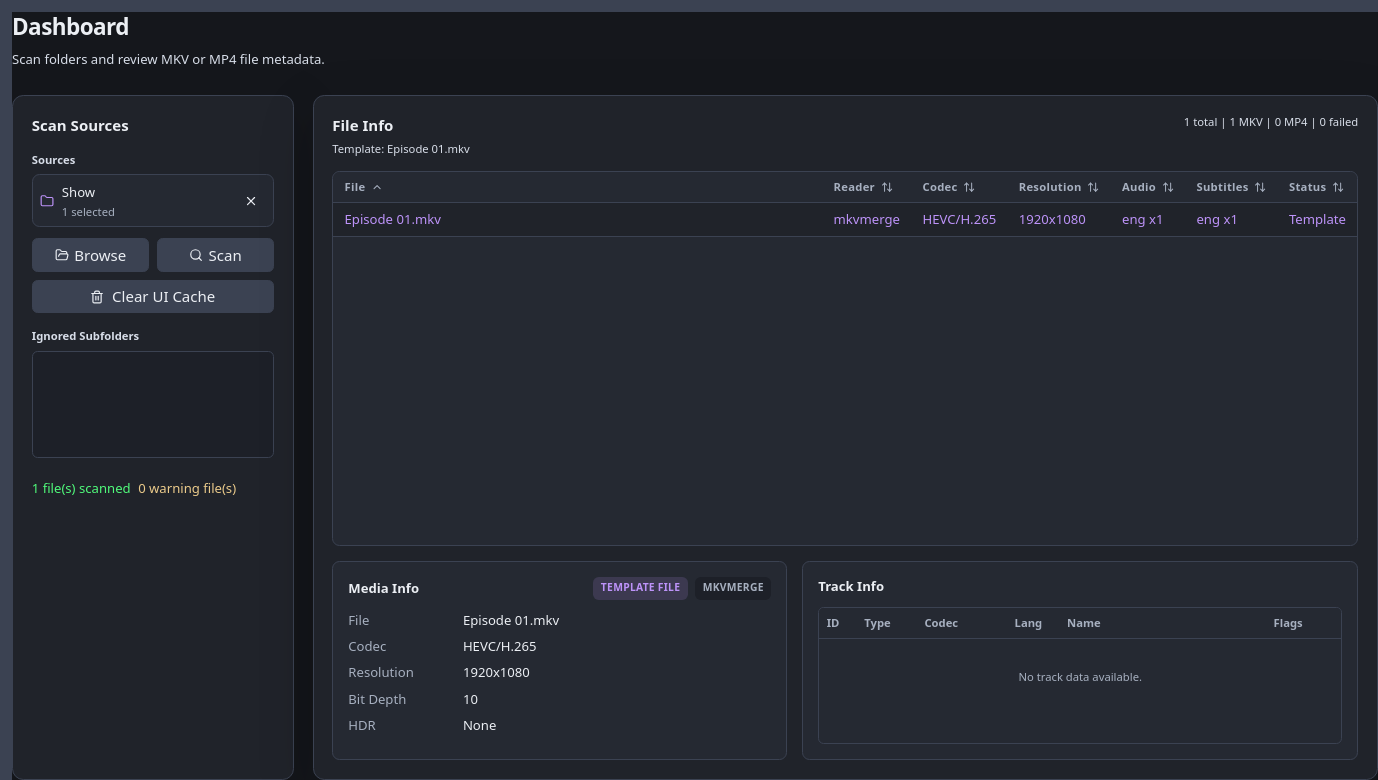
Test: Dashboard UI cache reset › shows files from a scan started after the UI cache is cleared
This screenshot has width=1378, height=780.
Expected: the row "Episode 01.mkv" is shown, [333,202,1357,237]
What coordinates should you click on to do the following:
click the button "Clear UI Cache"
I would click on:
 (153, 297)
Its box is [32,280,274,314].
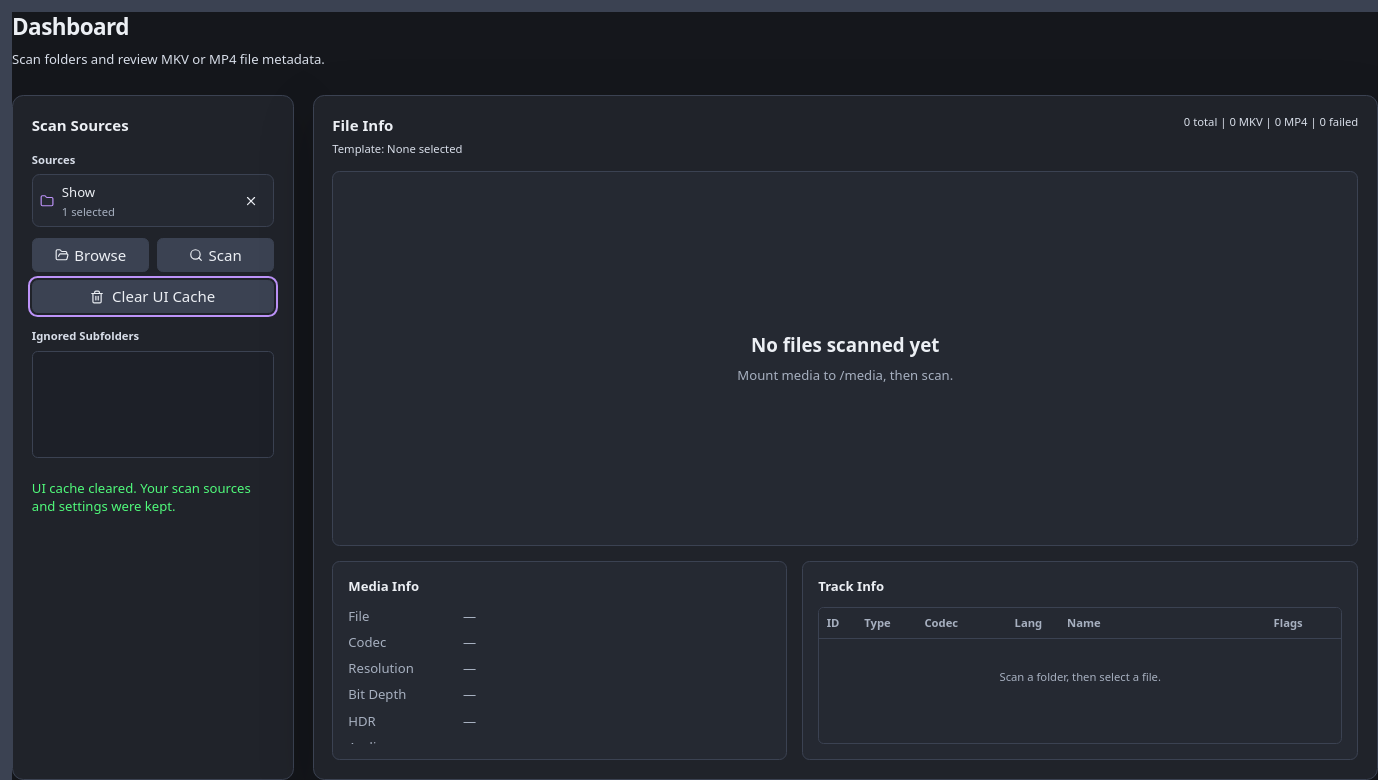
Result: the text "Episode 01.mkv" is gone
What coordinates should you click on to do the following:
click the button "Scan"
I would click on:
 (215, 255)
Its box is [157,238,274,272].
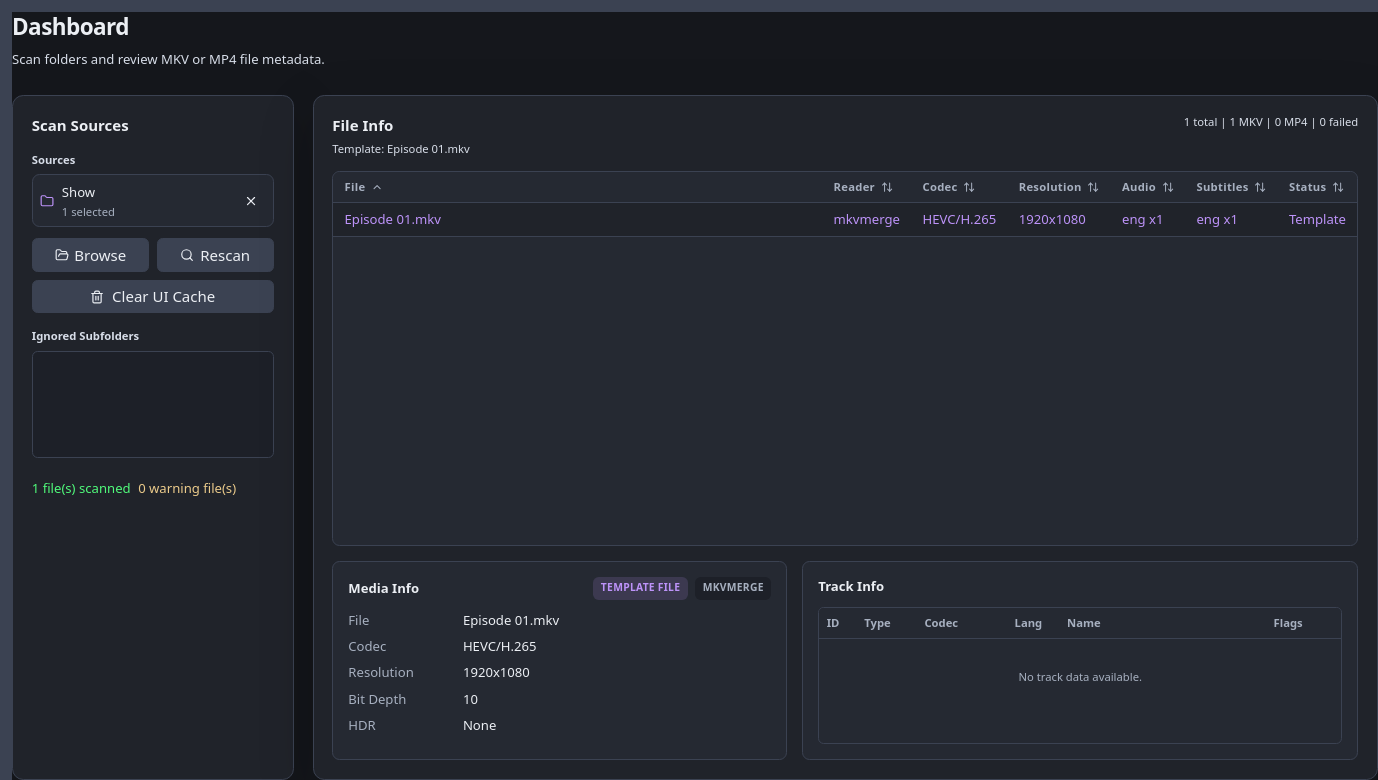
Result: the row "Episode 01.mkv" is shown at [333,202,1357,237]
Result: the button "Rescan" is shown at [157,238,274,272]
